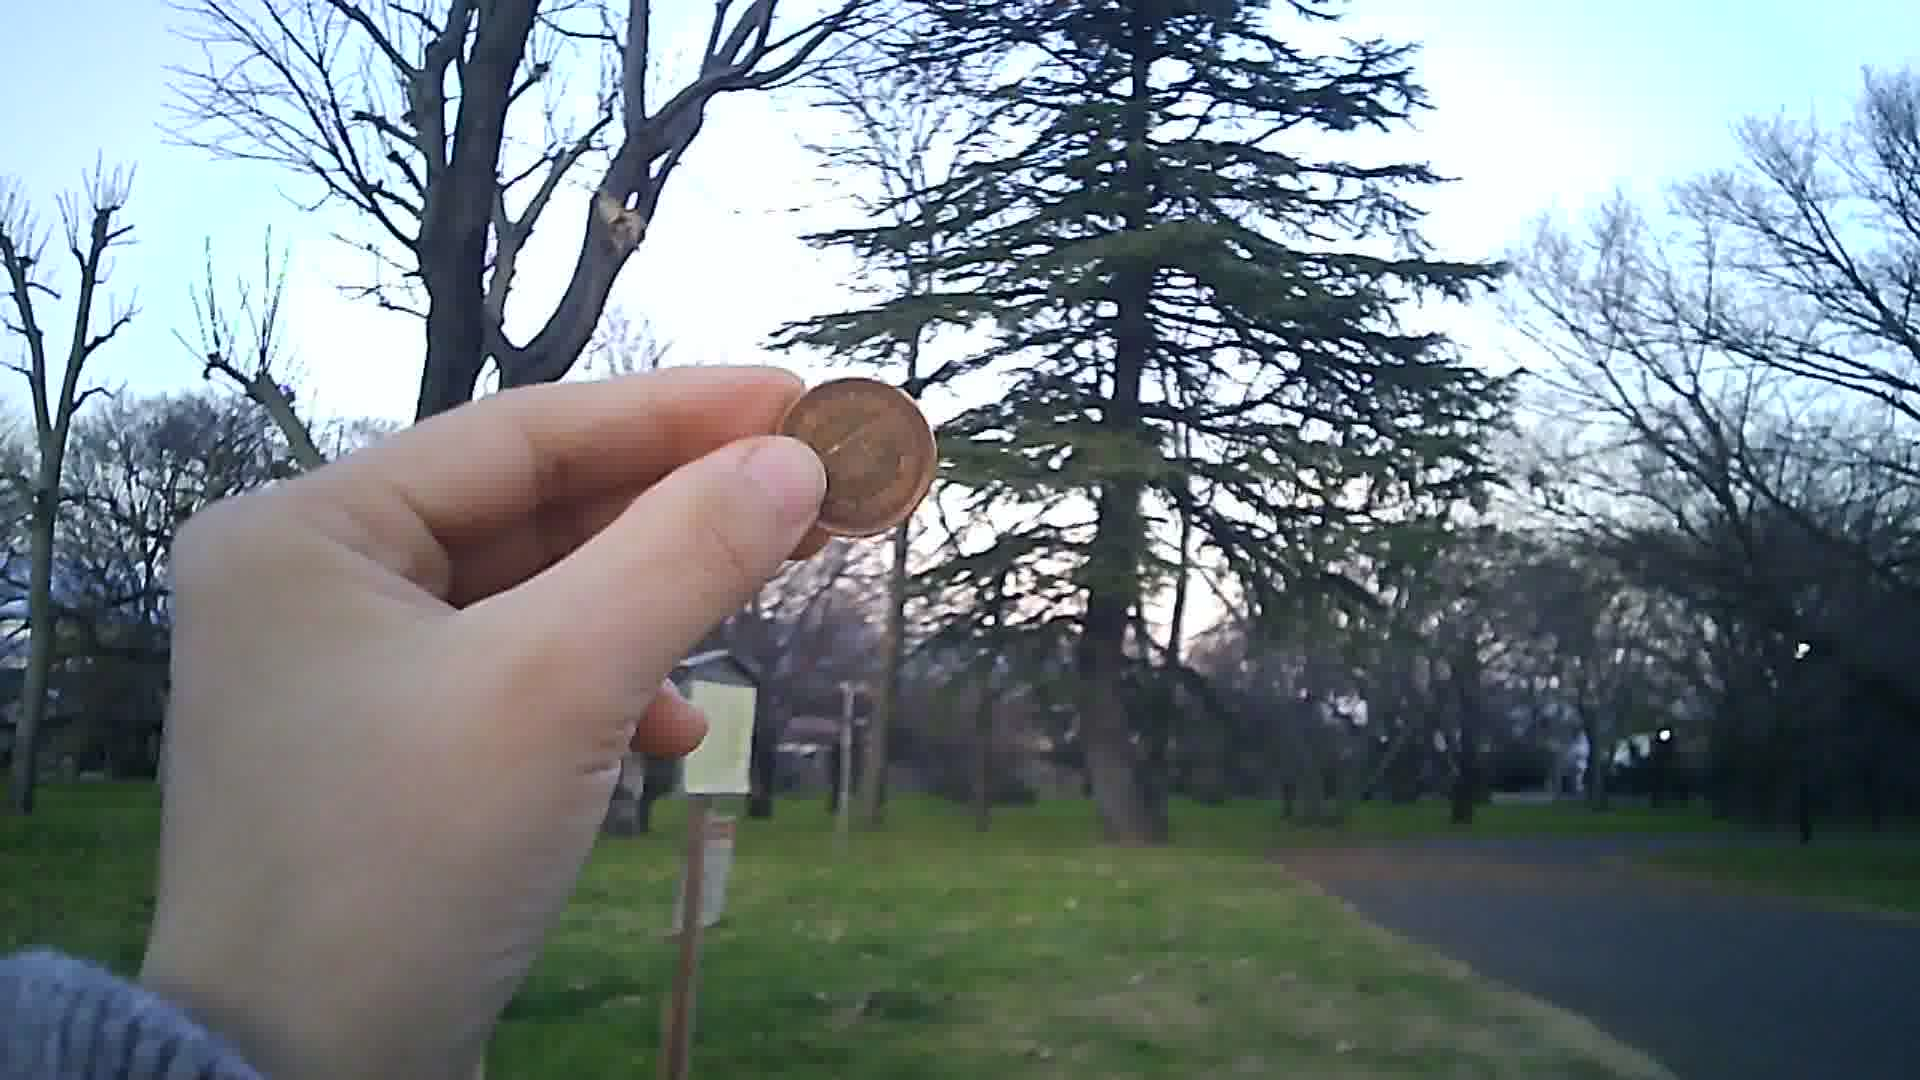10 Yen: (774, 375, 945, 549)
